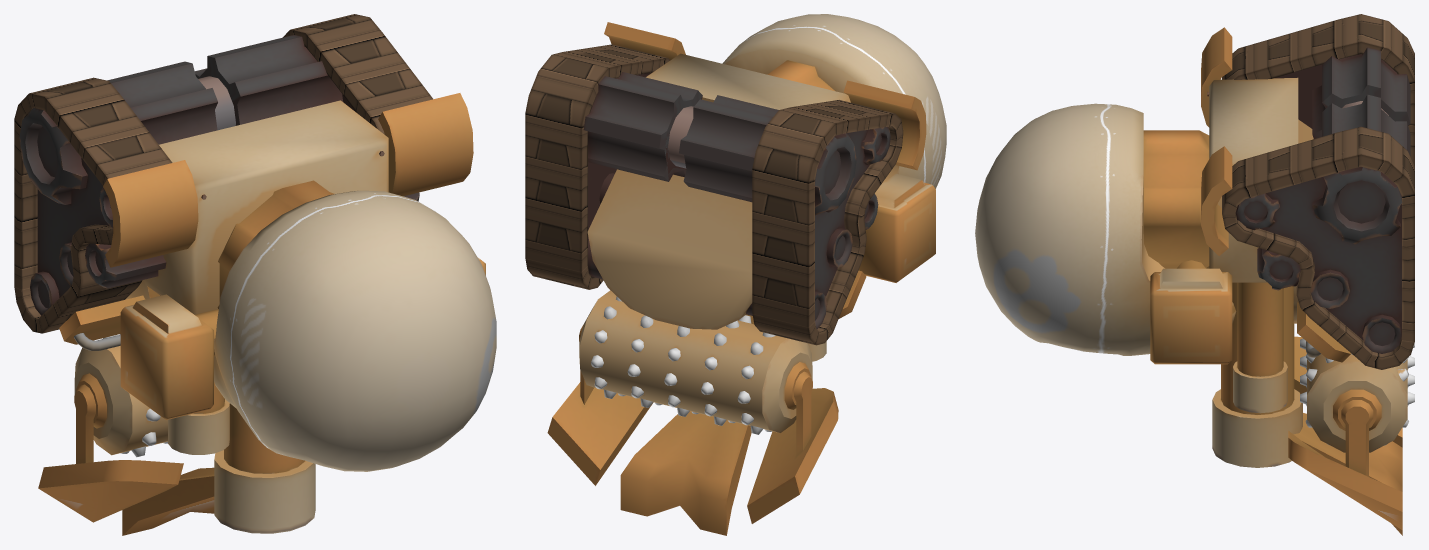
Rendered from Enemy_Boss_Tank_01.fbx.
The picture shows the model from 3 angles, left to right: view 1: azimuth 30°, elevation 25°; view 2: azimuth 150°, elevation 25°; view 3: azimuth 270°, elevation 25°; orthographic projection. The views are drawn at different scales.
Parts seen in each view (by area): view 1: Enemy_Boss_Tank_01 | Skull, Enemy_Boss_Tank_01 | Chassis, Enemy_Boss_Tank_01 | Track.R, Enemy_Boss_Tank_01 | Barrel_01, Enemy_Boss_Tank_01 | Wheel_01.L, Enemy_Boss_Tank_01 | Missile_Launcher.R, Enemy_Boss_Tank_01 | Kicker.R, Enemy_Boss_Tank_01 | Track.L, Enemy_Boss_Tank_01 | Wheel_01.R, Enemy_Boss_Tank_01 | Wheel_Spiked, Enemy_Boss_Tank_01 | Skull_Gear, Enemy_Boss_Tank_01 | Barrel_02.R (+1 smaller); view 2: Enemy_Boss_Tank_01 | Chassis, Enemy_Boss_Tank_01 | Track.R, Enemy_Boss_Tank_01 | Wheel_Spiked, Enemy_Boss_Tank_01 | Track.L, Enemy_Boss_Tank_01 | Skull, Enemy_Boss_Tank_01 | Barrel_01, Enemy_Boss_Tank_01 | Wheel_01.L, Enemy_Boss_Tank_01 | Wheel_01.R, Enemy_Boss_Tank_01 | Kicker.R, Enemy_Boss_Tank_01 | Missile_Launcher.R, Enemy_Boss_Tank_01 | Kicker.L, Enemy_Boss_Tank_01 | Skull_Gear (+1 smaller); view 3: Enemy_Boss_Tank_01 | Skull, Enemy_Boss_Tank_01 | Track.L, Enemy_Boss_Tank_01 | Chassis, Enemy_Boss_Tank_01 | Barrel_01, Enemy_Boss_Tank_01 | Track.R, Enemy_Boss_Tank_01 | Skull_Gear, Enemy_Boss_Tank_01 | Missile_Launcher.L, Enemy_Boss_Tank_01 | Wheel_01.R, Enemy_Boss_Tank_01 | Wheel_Spiked, Enemy_Boss_Tank_01 | Barrel_02.L, Enemy_Boss_Tank_01 | Kicker.L, Enemy_Boss_Tank_01 | Wheel_01.L (+3 smaller).
Boxes of the visible parts, x1,y1,x2,y2 form: Enemy_Boss_Tank_01 | Skull: (214,190,496,471); Enemy_Boss_Tank_01 | Chassis: (59,76,473,350); Enemy_Boss_Tank_01 | Track.R: (14,77,172,333); Enemy_Boss_Tank_01 | Barrel_01: (122,403,315,535); Enemy_Boss_Tank_01 | Wheel_01.L: (19,61,217,204); Enemy_Boss_Tank_01 | Missile_Launcher.R: (120,294,213,419); Enemy_Boss_Tank_01 | Kicker.R: (38,373,183,522); Enemy_Boss_Tank_01 | Track.L: (283,14,432,134); Enemy_Boss_Tank_01 | Wheel_01.R: (194,35,343,125); Enemy_Boss_Tank_01 | Wheel_Spiked: (74,334,167,457); Enemy_Boss_Tank_01 | Skull_Gear: (194,180,334,356); Enemy_Boss_Tank_01 | Barrel_02.R: (168,382,229,454); Enemy_Boss_Tank_01 | Chassis: (587,22,926,329); Enemy_Boss_Tank_01 | Track.R: (746,100,903,345); Enemy_Boss_Tank_01 | Wheel_Spiked: (579,290,812,434); Enemy_Boss_Tank_01 | Track.L: (525,44,670,289); Enemy_Boss_Tank_01 | Skull: (722,14,946,188); Enemy_Boss_Tank_01 | Barrel_01: (620,314,753,535); Enemy_Boss_Tank_01 | Wheel_01.L: (679,95,856,215); Enemy_Boss_Tank_01 | Wheel_01.R: (583,72,702,181); Enemy_Boss_Tank_01 | Kicker.R: (747,362,838,523); Enemy_Boss_Tank_01 | Missile_Launcher.R: (858,173,935,282); Enemy_Boss_Tank_01 | Kicker.L: (547,325,653,485); Enemy_Boss_Tank_01 | Skull_Gear: (767,60,834,90); Enemy_Boss_Tank_01 | Skull: (975,103,1236,355); Enemy_Boss_Tank_01 | Track.L: (1222,126,1414,369); Enemy_Boss_Tank_01 | Chassis: (1201,27,1388,362); Enemy_Boss_Tank_01 | Barrel_01: (1212,282,1402,535); Enemy_Boss_Tank_01 | Track.R: (1222,14,1414,165); Enemy_Boss_Tank_01 | Skull_Gear: (1143,130,1209,268); Enemy_Boss_Tank_01 | Missile_Launcher.L: (1150,268,1232,364); Enemy_Boss_Tank_01 | Wheel_01.R: (1312,94,1410,244); Enemy_Boss_Tank_01 | Wheel_Spiked: (1300,338,1414,452); Enemy_Boss_Tank_01 | Barrel_02.L: (1233,282,1287,413); Enemy_Boss_Tank_01 | Kicker.L: (1288,389,1402,529); Enemy_Boss_Tank_01 | Wheel_01.L: (1312,47,1410,138).
Bounding box in the file's own units: 4.49 × 5.85 × 5.48.
